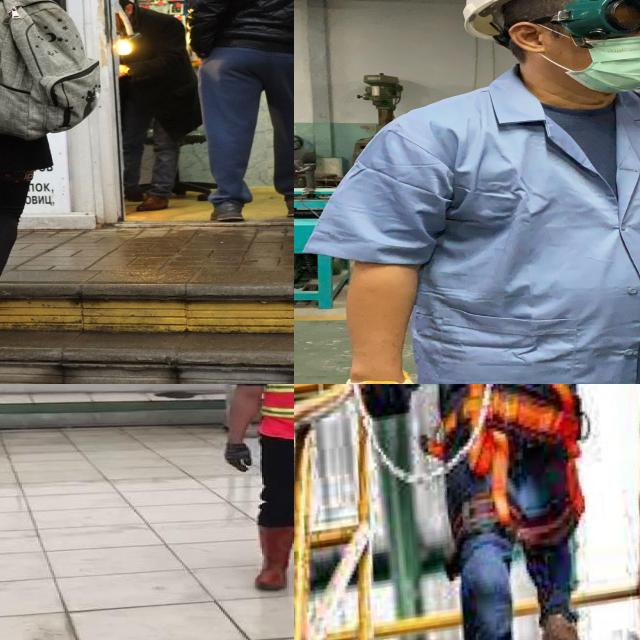Harness: (429, 384, 589, 523)
No_Ear-Protection: (510, 22, 579, 71)
boots: (253, 523, 294, 591)
face_mask: (543, 36, 640, 93)
glasses: (550, 0, 640, 46)
person: (210, 384, 294, 592)
